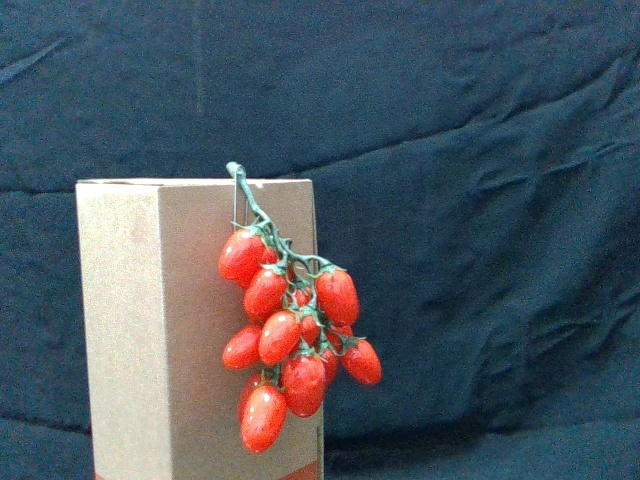tomato: (241, 384, 287, 452), (283, 348, 327, 416), (244, 262, 291, 317), (219, 225, 266, 279), (318, 264, 360, 322), (260, 310, 302, 365), (342, 335, 383, 386), (223, 325, 262, 372), (296, 302, 325, 346)
